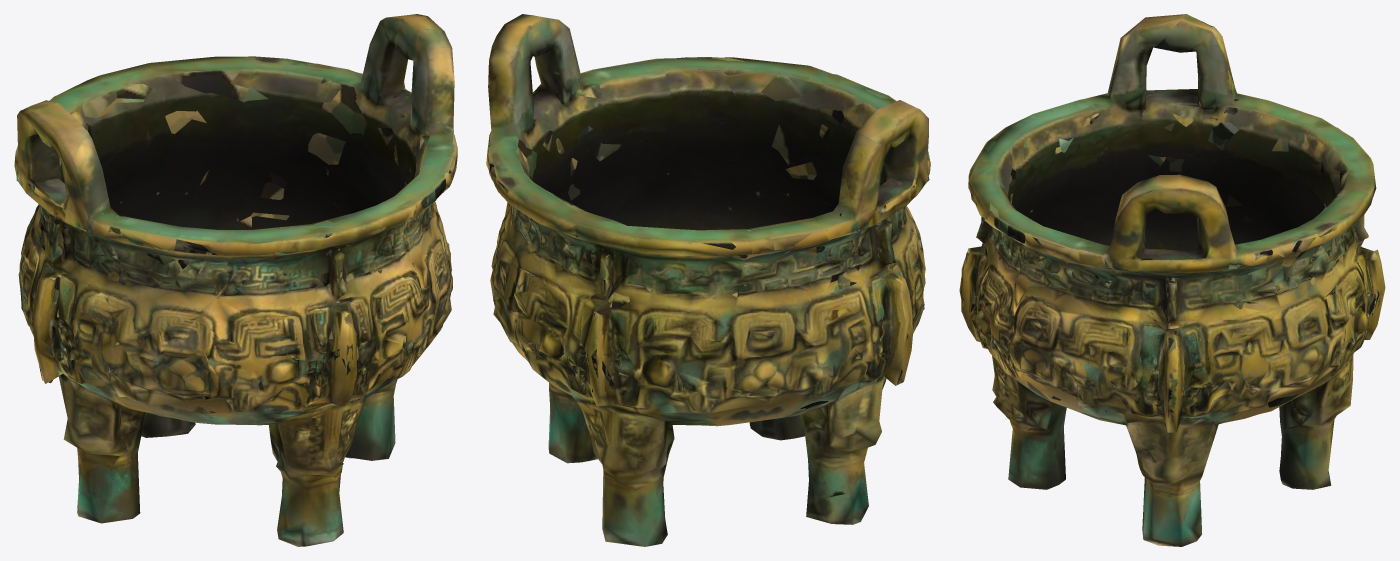
The model's file is bq_furnace.mid.glb.
3 views of the same model, side by side, from view 1: azimuth 30°, elevation 25°; view 2: azimuth 150°, elevation 25°; view 3: azimuth 270°, elevation 25° (orthographic). The views are drawn at different scales.
Size of the model in its own units: 1.68 by 1.66 by 1.68.
Materials: 1 (1 with a texture image).
